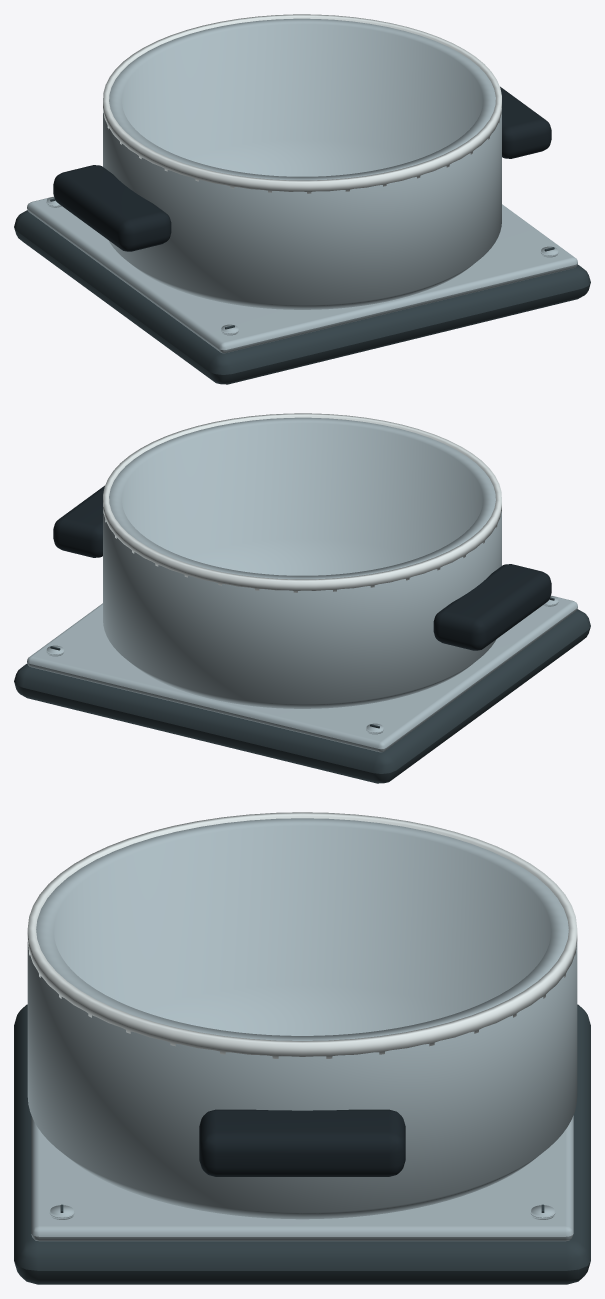
The model's file is bath.glb.
The picture shows the model from 3 angles, top to bottom: view 1: azimuth 30°, elevation 25°; view 2: azimuth 150°, elevation 25°; view 3: azimuth 270°, elevation 25°; orthographic projection. The views are drawn at different scales.
Parts seen in each view (by area): view 1: Bath double wall, Machined plinth, Satin upper panel, Bath rim, Insulated bath handle, Insulated bath handle.001; view 2: Bath double wall, Machined plinth, Satin upper panel, Bath rim, Insulated bath handle, Insulated bath handle.001; view 3: Bath double wall, Machined plinth, Satin upper panel, Bath rim, Insulated bath handle.001.
Boxes of the visible parts, x1,y1,x2,y2 form: Bath double wall: (103, 18, 501, 309); Machined plinth: (14, 210, 590, 384); Satin upper panel: (27, 196, 577, 353); Bath rim: (103, 14, 501, 193); Insulated bath handle: (53, 165, 171, 251); Insulated bath handle.001: (500, 86, 551, 158); Bath double wall: (103, 417, 501, 708); Machined plinth: (14, 609, 590, 783); Satin upper panel: (27, 595, 577, 752); Bath rim: (103, 413, 501, 592); Insulated bath handle: (433, 564, 551, 650); Insulated bath handle.001: (53, 485, 104, 557); Bath double wall: (27, 818, 577, 1219); Machined plinth: (14, 1004, 590, 1284); Satin upper panel: (31, 1115, 573, 1241); Bath rim: (27, 812, 577, 1058); Insulated bath handle.001: (199, 1109, 405, 1176).
Size of the model in its own units: 0.5 by 0.192 by 0.42.
